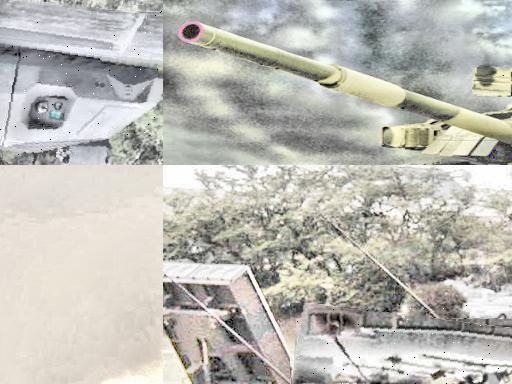tanks: (180, 22, 512, 166), (1, 1, 164, 166), (293, 304, 512, 384), (475, 67, 511, 95)
